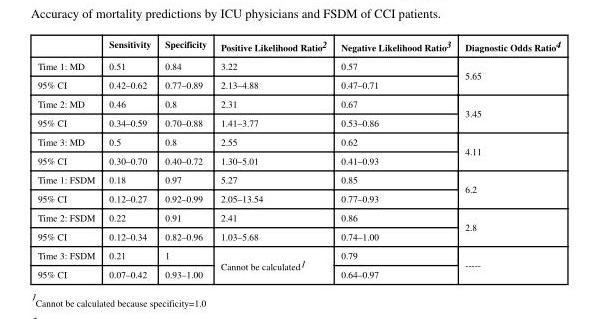table: (37, 37, 561, 279)
table column: (334, 37, 458, 279), (213, 37, 334, 279), (458, 37, 561, 279), (37, 37, 102, 279), (102, 37, 158, 279), (158, 37, 213, 279)
table column header: (37, 37, 561, 56)
table row: (37, 37, 561, 56), (37, 74, 561, 93), (37, 93, 561, 112), (37, 112, 561, 131), (37, 131, 561, 150), (37, 150, 561, 169), (37, 169, 561, 188), (37, 188, 561, 207), (37, 207, 561, 226), (37, 226, 561, 245), (37, 245, 561, 264), (37, 56, 561, 74), (37, 264, 561, 279)
table spanning cell: (213, 245, 334, 279), (458, 93, 561, 131), (458, 131, 561, 169), (458, 169, 561, 207), (458, 207, 561, 245), (458, 56, 561, 93), (458, 245, 561, 279)
